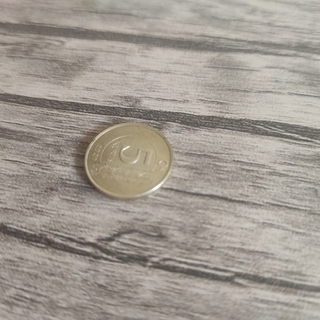5KURUS: (83, 121, 175, 201)
